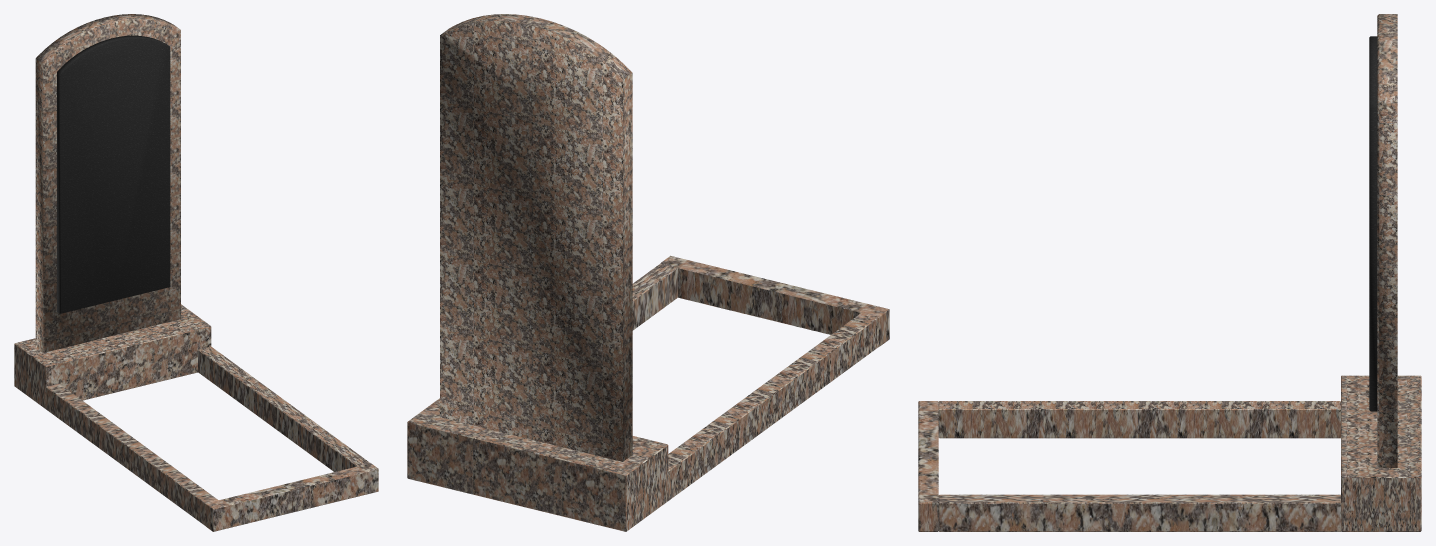
File: Салтаевский.glb
3 renders of one model, left to right at view 1: azimuth 30°, elevation 25°; view 2: azimuth 150°, elevation 25°; view 3: azimuth 270°, elevation 25°, orthographic. The views are drawn at different scales.
Parts seen in each view (by area): view 1: подстцветн1/60; view 2: подстцветн1/60; view 3: подстцветн1/60.
Boxes of the visible parts, bbox=[...] form: подстцветн1/60: bbox=[14, 14, 378, 531]; подстцветн1/60: bbox=[407, 14, 889, 531]; подстцветн1/60: bbox=[918, 14, 1421, 531].
Size of the model in its own units: 0.6 by 1.23 by 1.25.
2 materials, 2 textured.
